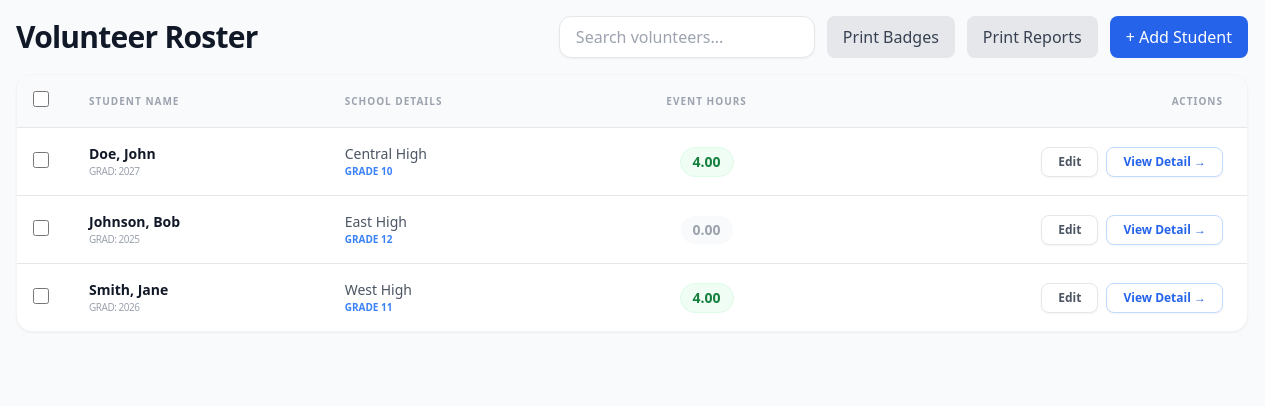
it: StudentsPage › bulk selection › should show plural text when multiple students selected
Expected: the text "Doe, John" is shown, [89,144,156,163]
Note: Select two students (use first checkboxes from each)
Click the checkbox named "Select John Doe" at (41, 160), box [33,152,49,168]
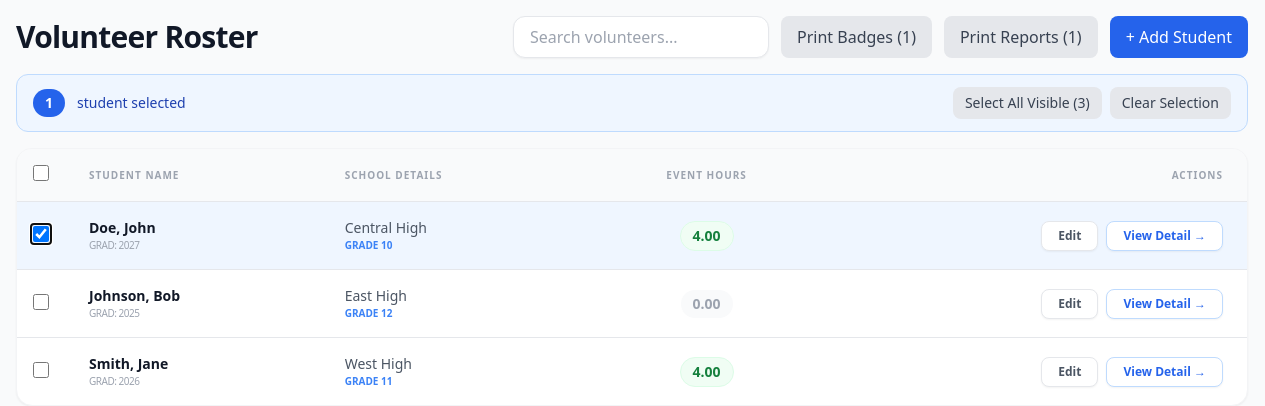
Click the checkbox named "Select Jane Smith" at (41, 370), box [33,362,49,378]
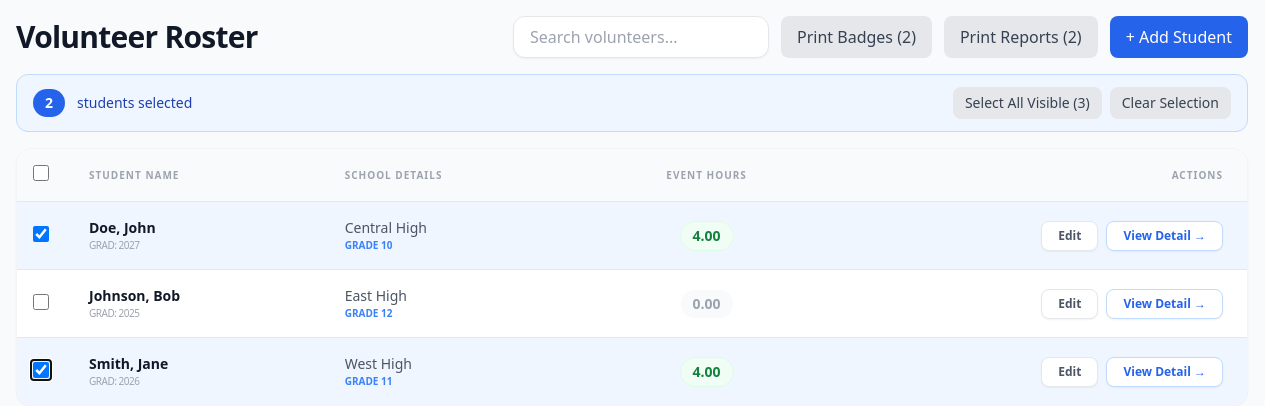
Now the text "2" is shown, box [33,89,65,117]
Now the text "students selected" is shown, box [77,93,192,113]
